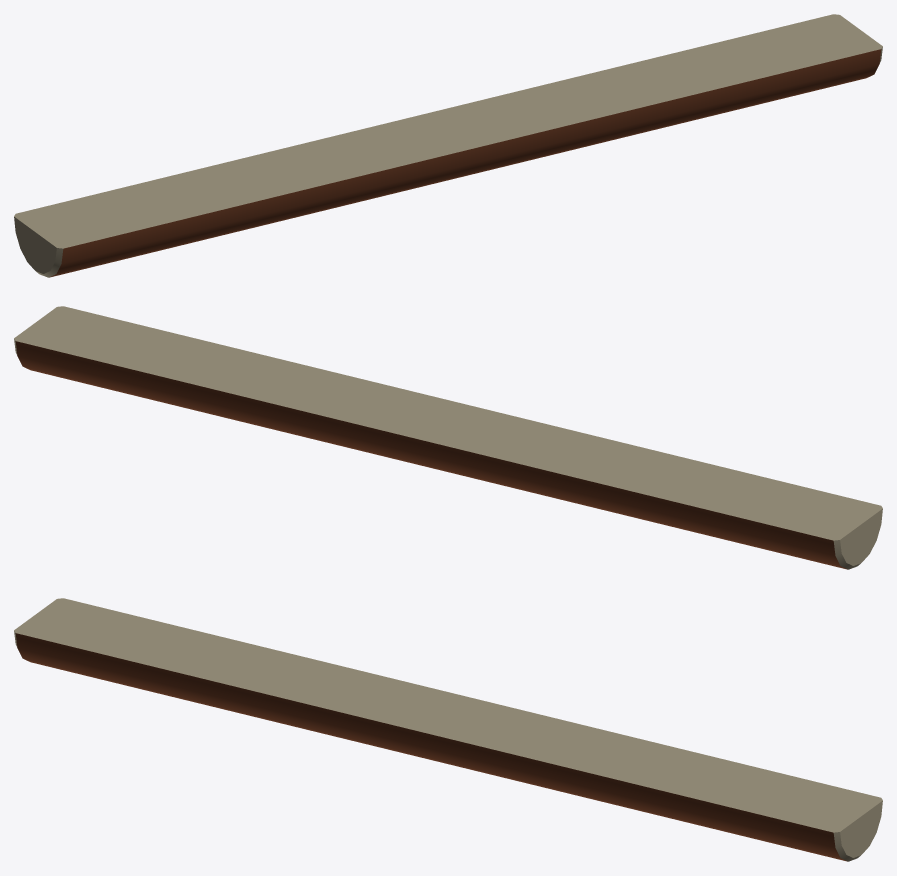
The model's file is Log10u.fbx.
3 renders of one model, top to bottom at view 1: azimuth 30°, elevation 25°; view 2: azimuth 150°, elevation 25°; view 3: azimuth 330°, elevation 25°, orthographic.
Parts seen in each view (by area): view 1: WoodenFloor; view 2: WoodenFloor; view 3: WoodenFloor.
Boxes of the visible parts, left/top/right/bottom form: WoodenFloor: left=14, top=14, right=882, bottom=277; WoodenFloor: left=14, top=306, right=882, bottom=569; WoodenFloor: left=14, top=598, right=882, bottom=861.
Size of the model in its own units: 400 by 20 by 40.
